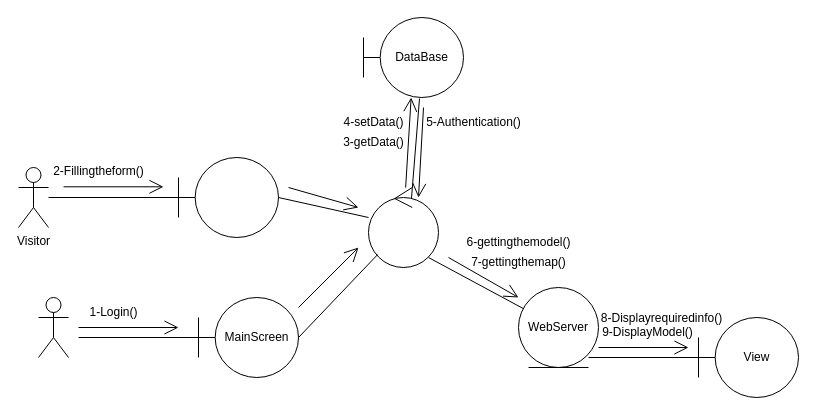
Some shapes in this 816 by 415 pixel diagram are drawn without their labels. Each missing label, with the box of its shape:
Admin/Dev: (38, 296, 68, 358)
Velidation: (368, 186, 438, 268)
Visitor form: (178, 156, 278, 238)
